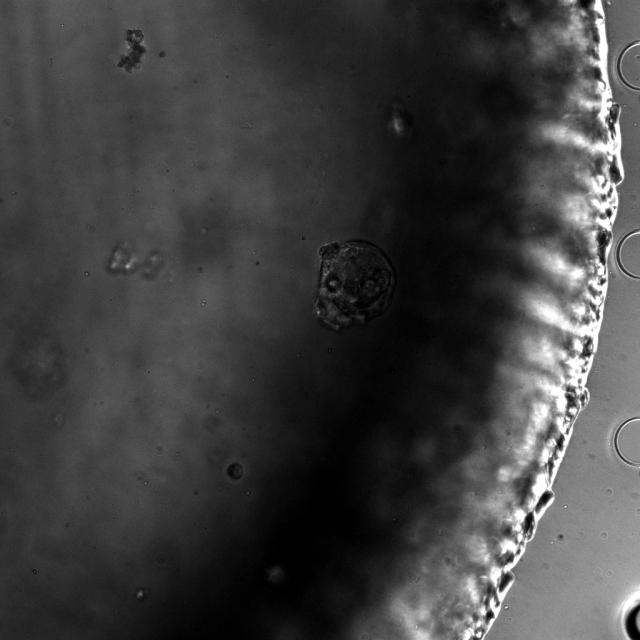organoid: (313, 240, 395, 331), (106, 242, 168, 280), (116, 28, 147, 73), (226, 462, 244, 480)
